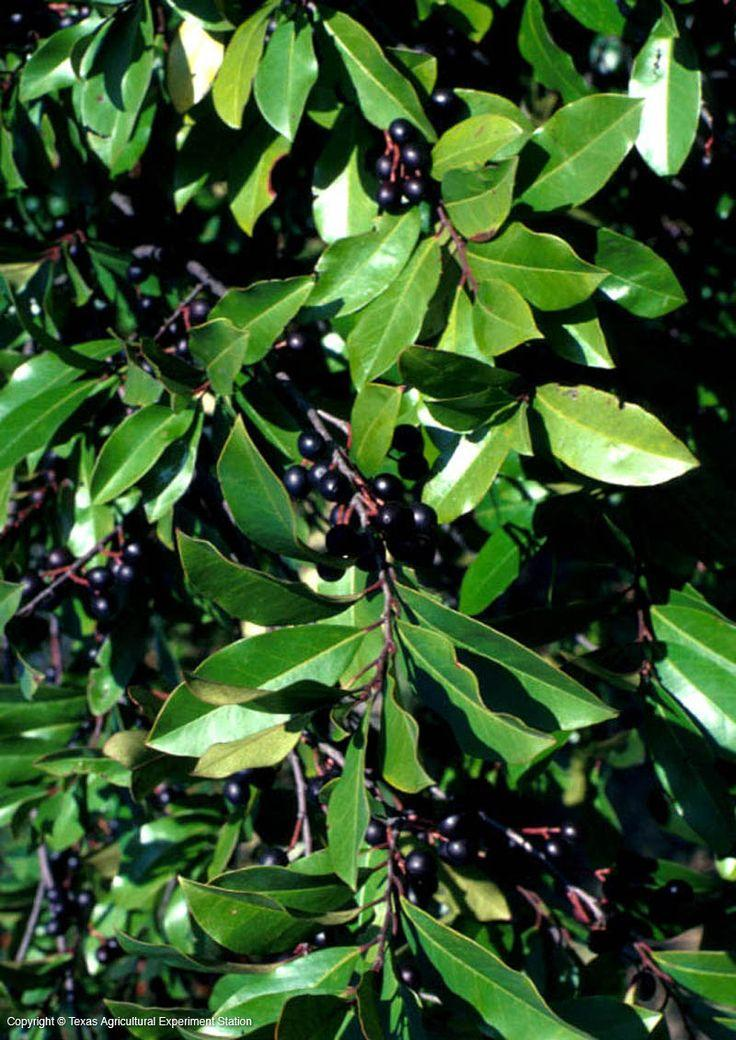Cherry leaf: (406, 589, 599, 799), (153, 618, 379, 746), (519, 371, 688, 502), (148, 541, 362, 641), (67, 396, 198, 516)
